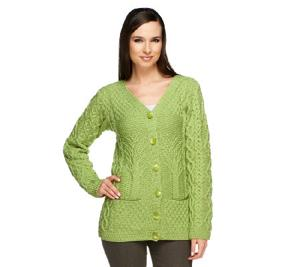S_cardigan sweater: (65, 79, 223, 234)
